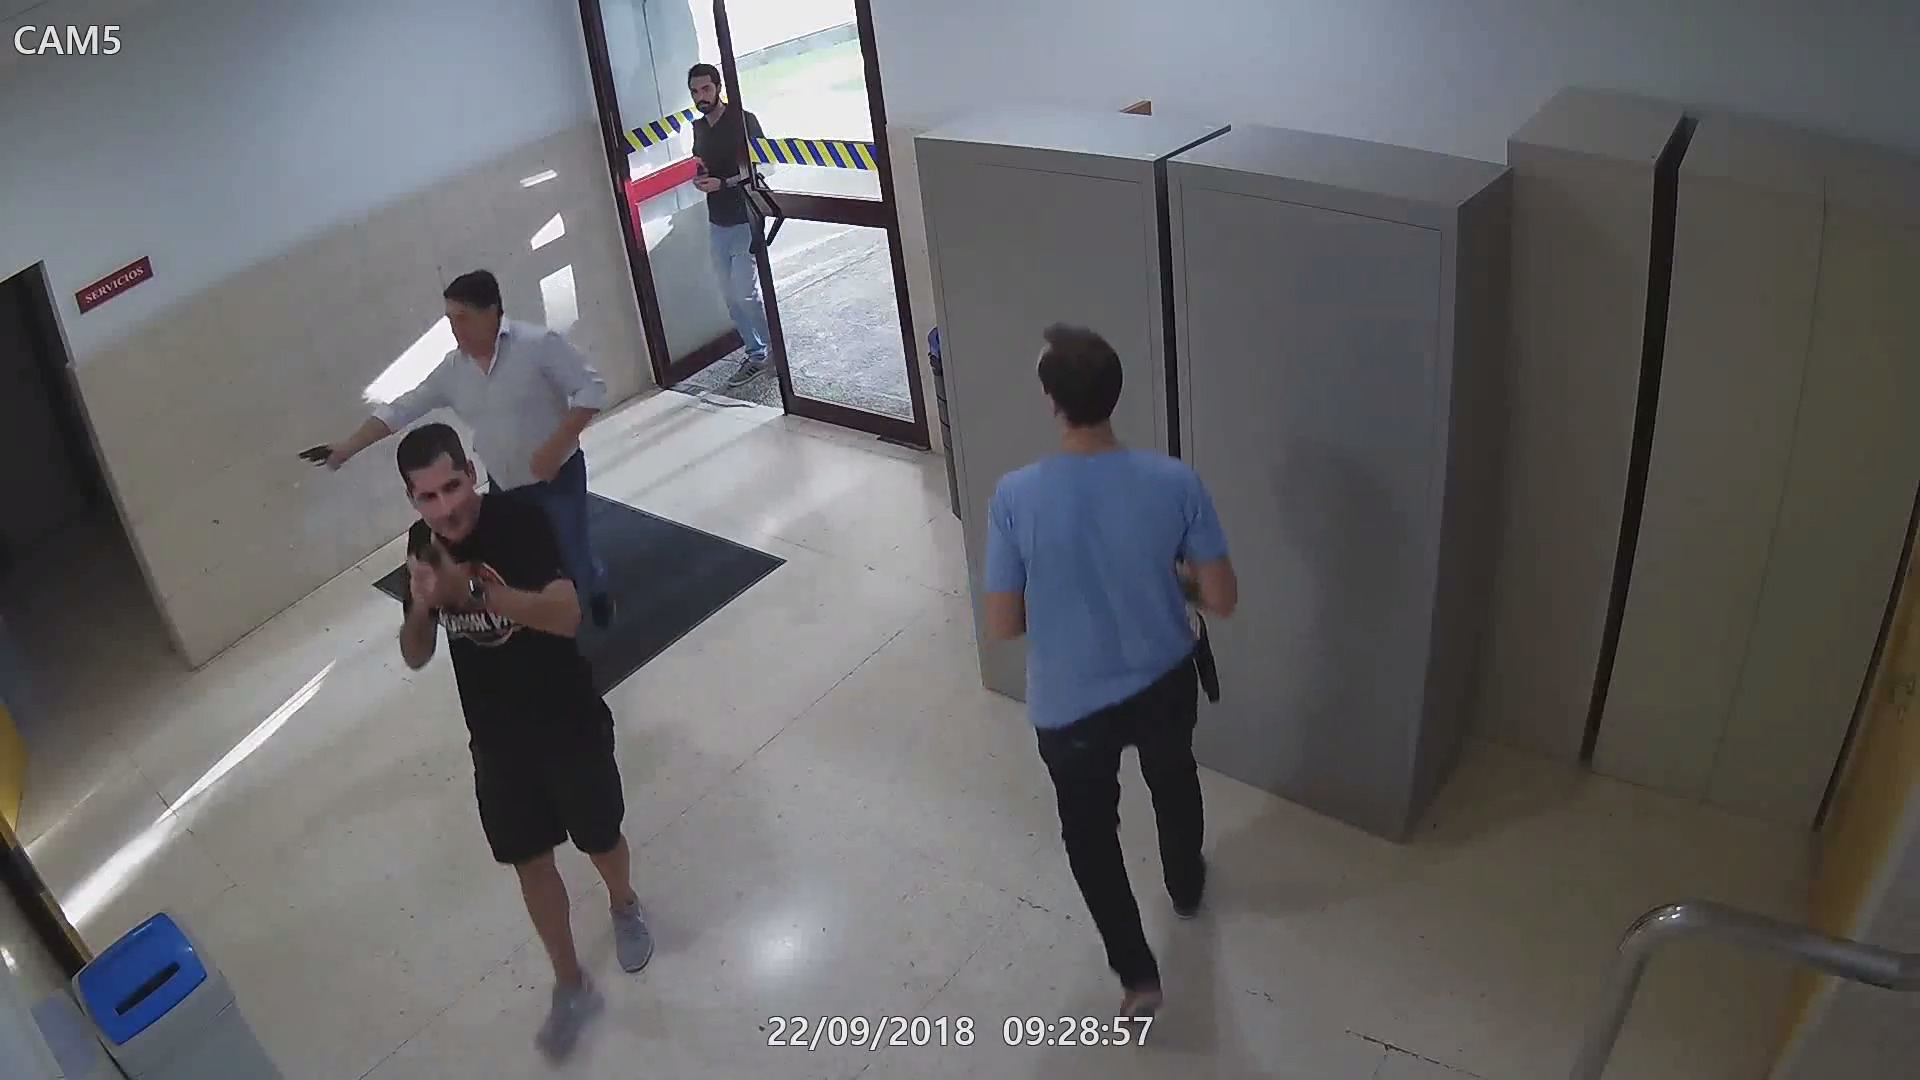Handgun: (407, 527, 458, 618), (293, 440, 351, 471), (688, 154, 709, 200)
